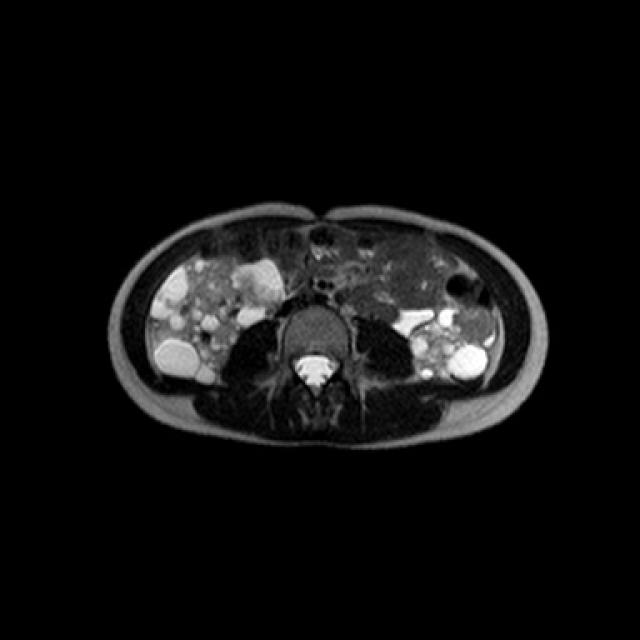sag: (150, 254, 283, 383)
sol: (392, 306, 498, 382)
